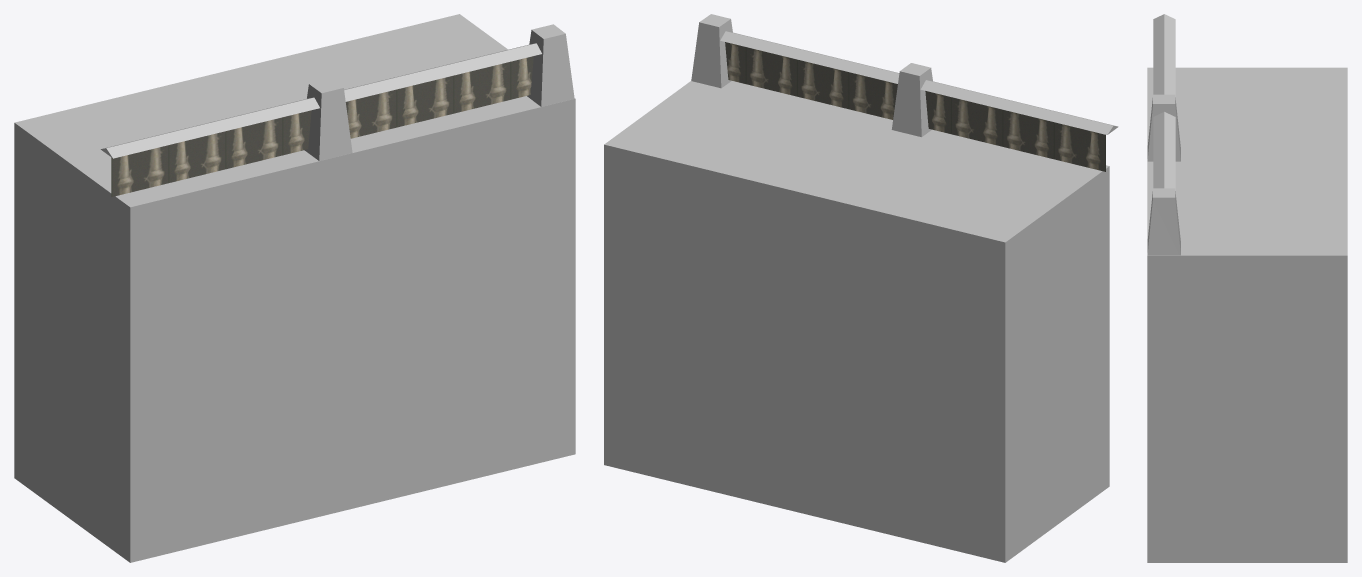
Rendered from thm_nboo_thed_imprv_seawall_straight_s01_l2.fbx.
3 views of the same model, side by side, from view 1: azimuth 30°, elevation 25°; view 2: azimuth 150°, elevation 25°; view 3: azimuth 270°, elevation 25° (orthographic). The views are drawn at different scales.
Parts seen in each view (by area): view 1: mesh_node; view 2: mesh_node; view 3: mesh_node.
Boxes of the visible parts, box(x1,y1,x2,y2) form: mesh_node: box(14, 14, 575, 562); mesh_node: box(604, 14, 1118, 562); mesh_node: box(1147, 14, 1347, 562).
Size of the model in its own units: 8.25 by 7.2 by 3.6.
